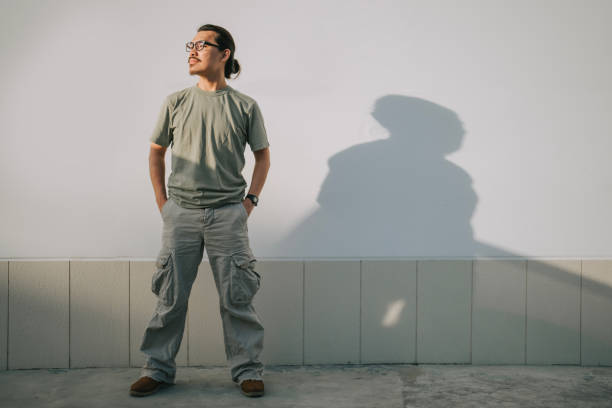Male: (129, 25, 273, 399)
